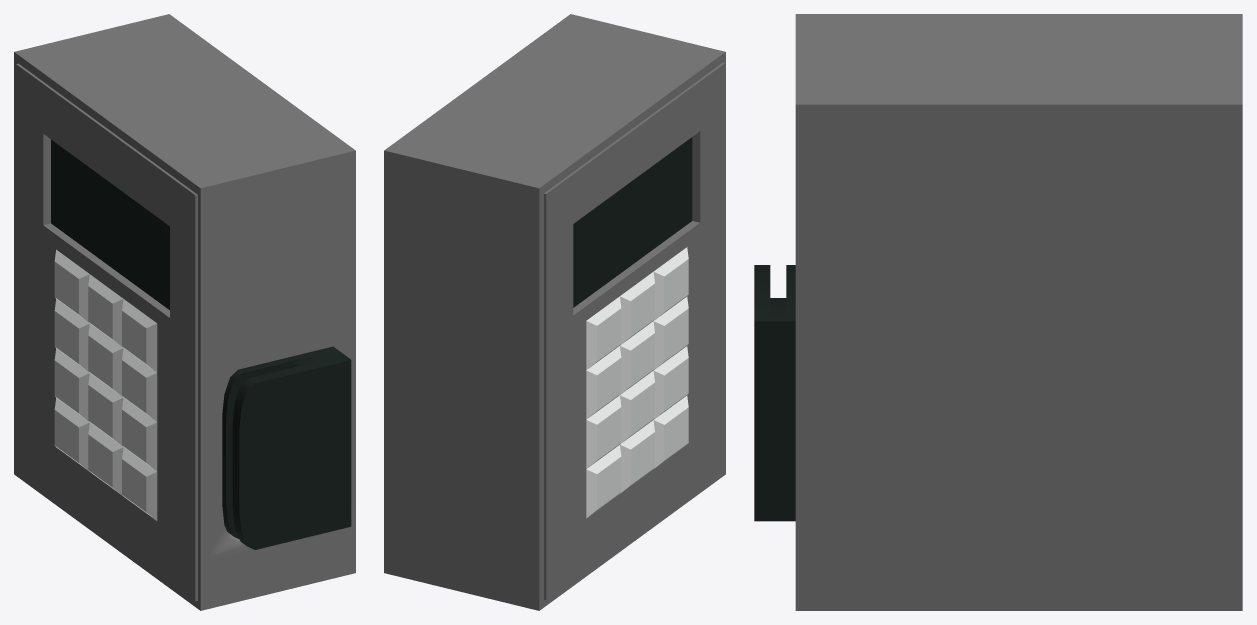
Rendered from Terminal_TransformApplied.fbx.
3 views of the same model, side by side, from view 1: azimuth 30°, elevation 25°; view 2: azimuth 150°, elevation 25°; view 3: azimuth 270°, elevation 25° (orthographic). The views are drawn at different scales.
Visible parts, largest first — view 1: Terminal_Back, Terminall_Front; view 2: Terminal_Back, Terminall_Front; view 3: Terminal_Back.
Part boxes in pixels (box(x1,y1,x2,y2)): Terminal_Back: box(14, 14, 355, 610); Terminall_Front: box(16, 63, 197, 601); Terminal_Back: box(384, 14, 725, 610); Terminall_Front: box(544, 62, 725, 599); Terminal_Back: box(754, 14, 1242, 610).
Size of the model in its own units: 10.56 by 26.02 by 22.74.
7 materials, 1 textured.
